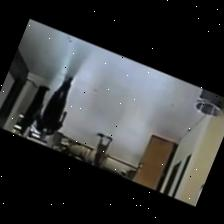person: (37, 77, 72, 138), (20, 85, 49, 134), (93, 133, 112, 166)
